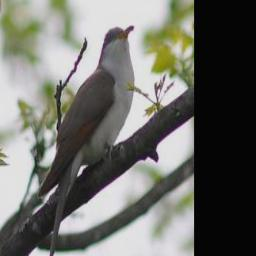Cuckoo: (36, 24, 136, 256)
